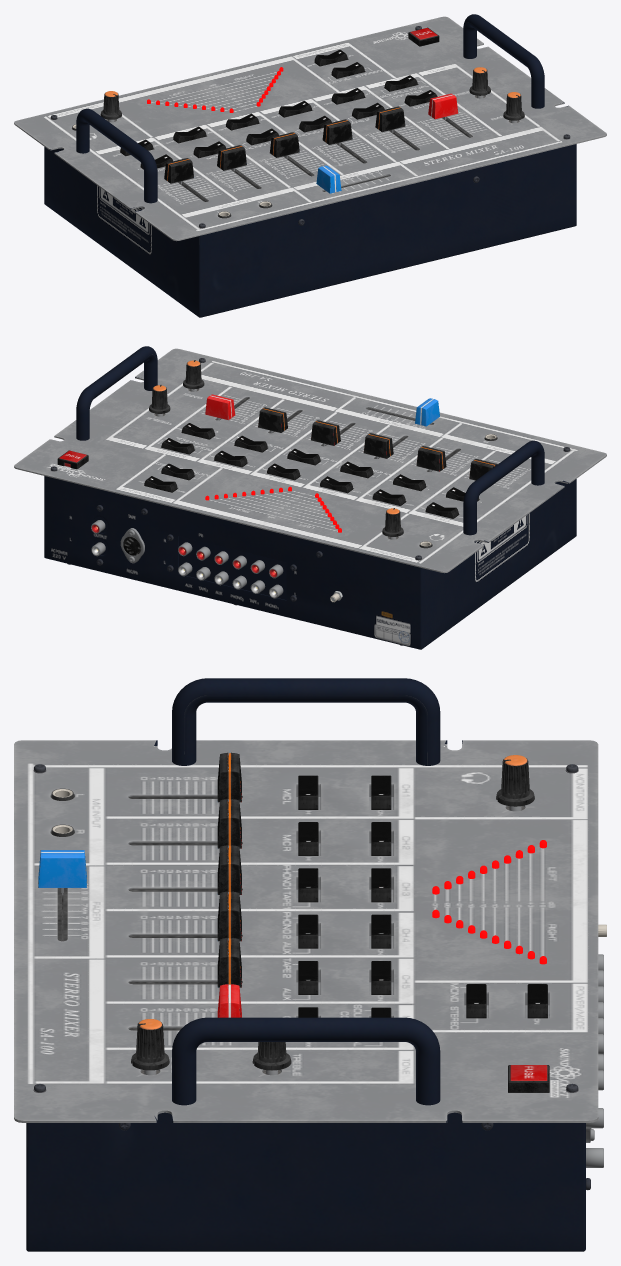
The model's file is soundbox.glb.
3 renders of one model, top to bottom at view 1: azimuth 30°, elevation 25°; view 2: azimuth 150°, elevation 25°; view 3: azimuth 270°, elevation 25°, orthographic. The views are drawn at different scales.
Visible parts, largest first — view 1: #ELX0001_Body_80, ELX0001_CH4_Vol_77, ELX0001_CH3_Vol_76, ELX0001_CH5_Vol_78, #ELX0001_CH1_Vol_2, ELX0001_CH2_Vol_75, ELX0001_Master_Vol_79, #ELX0001_Fader_6, #ELX0001_Bass_0, #ELX0001_Monitor_Vol_25, #ELX0001_Treble_74; view 2: #ELX0001_Body_80, ELX0001_CH4_Vol_77, ELX0001_CH5_Vol_78, ELX0001_CH2_Vol_75, ELX0001_CH3_Vol_76, ELX0001_Master_Vol_79, #ELX0001_Fader_6, #ELX0001_Monitor_Vol_25, #ELX0001_Bass_0, #ELX0001_Treble_74; view 3: #ELX0001_Body_80, #ELX0001_Fader_6, #ELX0001_Bass_0, #ELX0001_Monitor_Vol_25, ELX0001_CH5_Vol_78, ELX0001_CH2_Vol_75, ELX0001_CH4_Vol_77, #ELX0001_CH1_Vol_2, ELX0001_CH3_Vol_76, #ELX0001_Treble_74, ELX0001_Master_Vol_79.
Part boxes in pixels (x1=…): #ELX0001_Body_80: x1=14, y1=14, x2=606, y2=317; ELX0001_CH4_Vol_77: x1=322, y1=119, x2=352, y2=145; ELX0001_CH3_Vol_76: x1=269, y1=132, x2=299, y2=158; ELX0001_CH5_Vol_78: x1=375, y1=106, x2=405, y2=132; #ELX0001_CH1_Vol_2: x1=164, y1=158, x2=194, y2=184; ELX0001_CH2_Vol_75: x1=217, y1=145, x2=246, y2=171; ELX0001_Master_Vol_79: x1=428, y1=93, x2=458, y2=119; #ELX0001_Fader_6: x1=316, y1=165, x2=341, y2=193; #ELX0001_Bass_0: x1=503, y1=92, x2=524, y2=123; #ELX0001_Monitor_Vol_25: x1=100, y1=91, x2=121, y2=122; #ELX0001_Treble_74: x1=469, y1=67, x2=490, y2=98; #ELX0001_Body_80: x1=14, y1=346, x2=606, y2=649; ELX0001_CH4_Vol_77: x1=311, y1=420, x2=340, y2=446; ELX0001_CH5_Vol_78: x1=258, y1=407, x2=287, y2=433; ELX0001_CH2_Vol_75: x1=416, y1=446, x2=446, y2=471; ELX0001_CH3_Vol_76: x1=363, y1=433, x2=393, y2=458; ELX0001_Master_Vol_79: x1=205, y1=394, x2=235, y2=420; #ELX0001_Fader_6: x1=415, y1=398, x2=439, y2=426; #ELX0001_Monitor_Vol_25: x1=382, y1=508, x2=403, y2=539; #ELX0001_Bass_0: x1=183, y1=360, x2=204, y2=391; #ELX0001_Treble_74: x1=149, y1=385, x2=170, y2=416; #ELX0001_Body_80: x1=14, y1=678, x2=598, y2=1251; #ELX0001_Fader_6: x1=38, y1=850, x2=86, y2=895; #ELX0001_Bass_0: x1=131, y1=1019, x2=169, y2=1075; #ELX0001_Monitor_Vol_25: x1=496, y1=755, x2=534, y2=811; ELX0001_CH5_Vol_78: x1=217, y1=938, x2=241, y2=987; ELX0001_CH2_Vol_75: x1=217, y1=799, x2=241, y2=848; ELX0001_CH4_Vol_77: x1=217, y1=891, x2=241, y2=941; #ELX0001_CH1_Vol_2: x1=217, y1=752, x2=241, y2=802; ELX0001_CH3_Vol_76: x1=217, y1=845, x2=241, y2=894; #ELX0001_Treble_74: x1=252, y1=1042, x2=291, y2=1075; ELX0001_Master_Vol_79: x1=217, y1=984, x2=241, y2=1017.
Bounding box in the file's own units: 0.37 × 0.1181 × 0.2436.
Materials: 4 (2 with a texture image).
